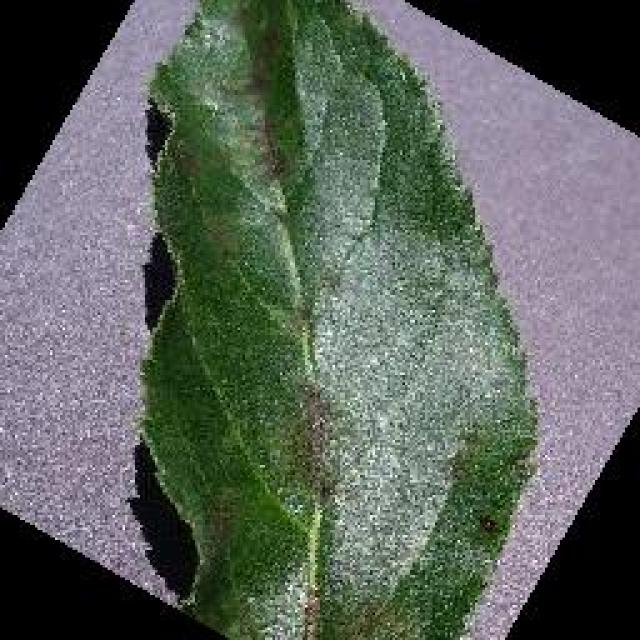apple scab disease: (132, 0, 542, 638)
